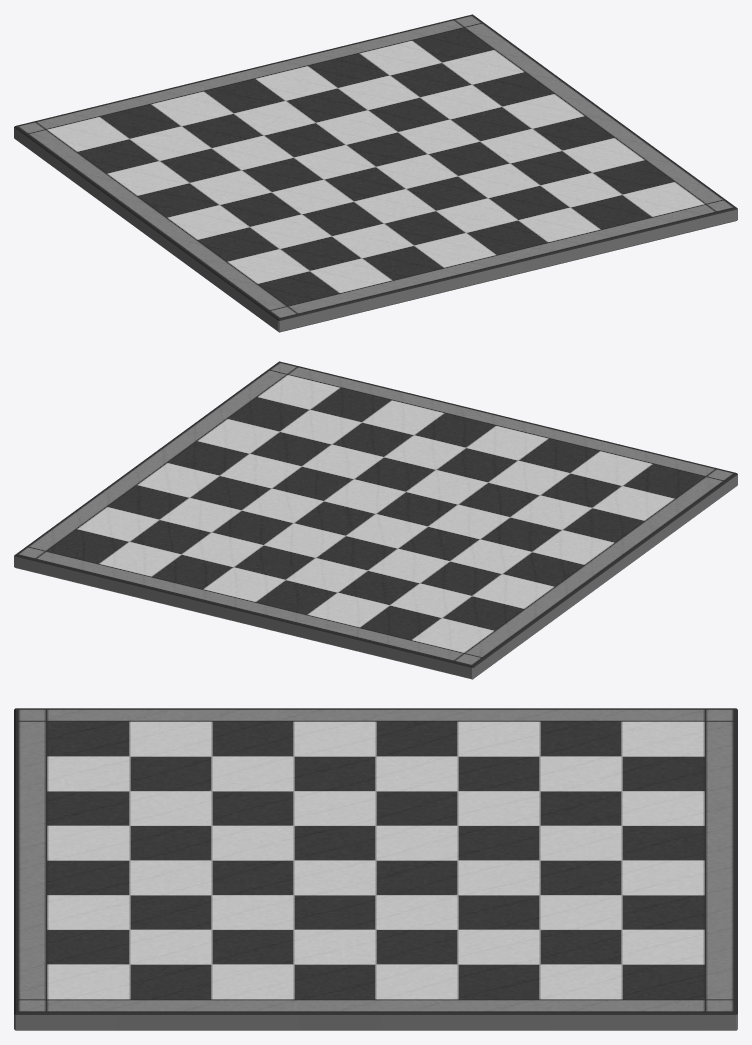
Rendered from chessboard.glb.
The picture shows the model from 3 angles, top to bottom: view 1: azimuth 30°, elevation 25°; view 2: azimuth 150°, elevation 25°; view 3: azimuth 270°, elevation 25°; orthographic projection. The views are drawn at different scales.
Parts seen in each view (by area): view 1: Chessboard_8x8; view 2: Chessboard_8x8; view 3: Chessboard_8x8.
Part boxes in pixels (left/top/right/bottom): Chessboard_8x8: left=14, top=14, right=737, bottom=332; Chessboard_8x8: left=14, top=361, right=737, bottom=679; Chessboard_8x8: left=14, top=708, right=737, bottom=1030.
Bounding box in the file's own units: 0.44 × 0.012 × 0.44.
1 material, 1 textured.
